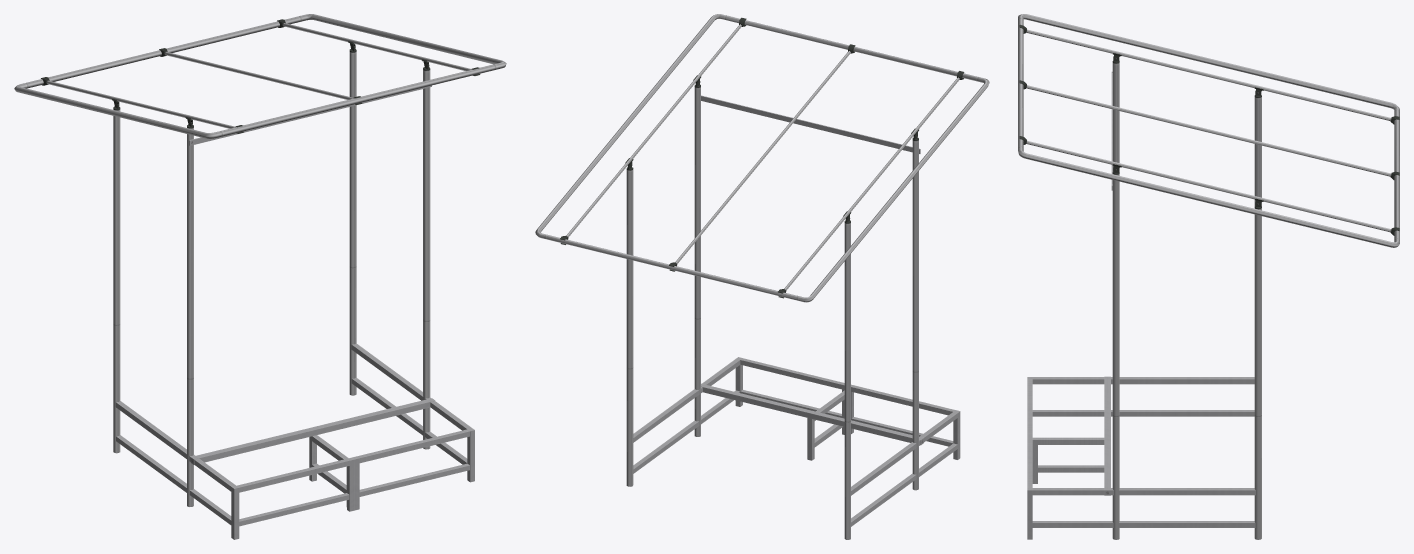
The model's file is jsf_4P_s01_Leg02.fbx.
3 renders of one model, left to right at view 1: azimuth 30°, elevation 25°; view 2: azimuth 150°, elevation 25°; view 3: azimuth 270°, elevation 25°, orthographic. The views are drawn at different scales.
Parts seen in each view (by area): view 1: jsf_4P_s01_Leg02; view 2: jsf_4P_s01_Leg02; view 3: jsf_4P_s01_Leg02.
Part boxes in pixels (x1,y1,x2,y2): jsf_4P_s01_Leg02: (14, 14, 506, 539); jsf_4P_s01_Leg02: (535, 14, 989, 539); jsf_4P_s01_Leg02: (1018, 14, 1399, 539).
Bounding box in the file's own units: 184 × 243 × 210.
